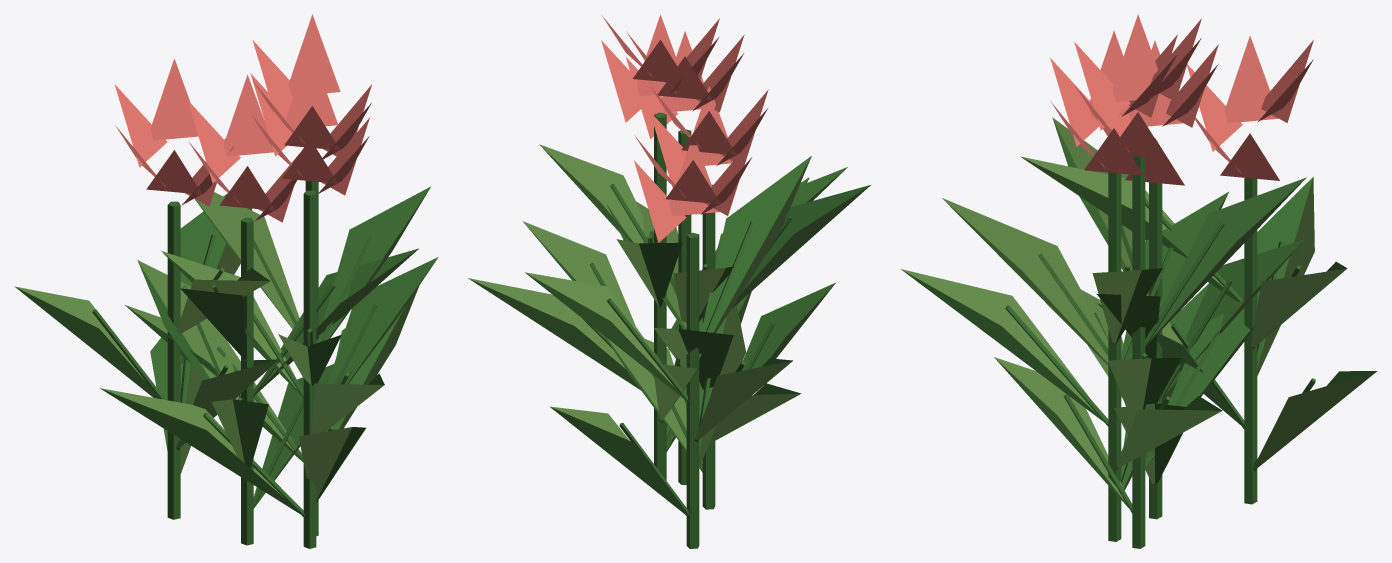
The model's file is canna_pink.glb.
3 renders of one model, left to right at view 1: azimuth 30°, elevation 25°; view 2: azimuth 150°, elevation 25°; view 3: azimuth 270°, elevation 25°, orthographic. The views are drawn at different scales.
Parts seen in each view (by area): view 1: canna_pink; view 2: canna_pink; view 3: canna_pink.
Part boxes in pixels (x1,y1,x2,y2): canna_pink: (14, 14, 438, 548); canna_pink: (468, 14, 870, 548); canna_pink: (901, 14, 1376, 548).
Bounding box in the file's own units: 1.52 × 1.92 × 1.58.
